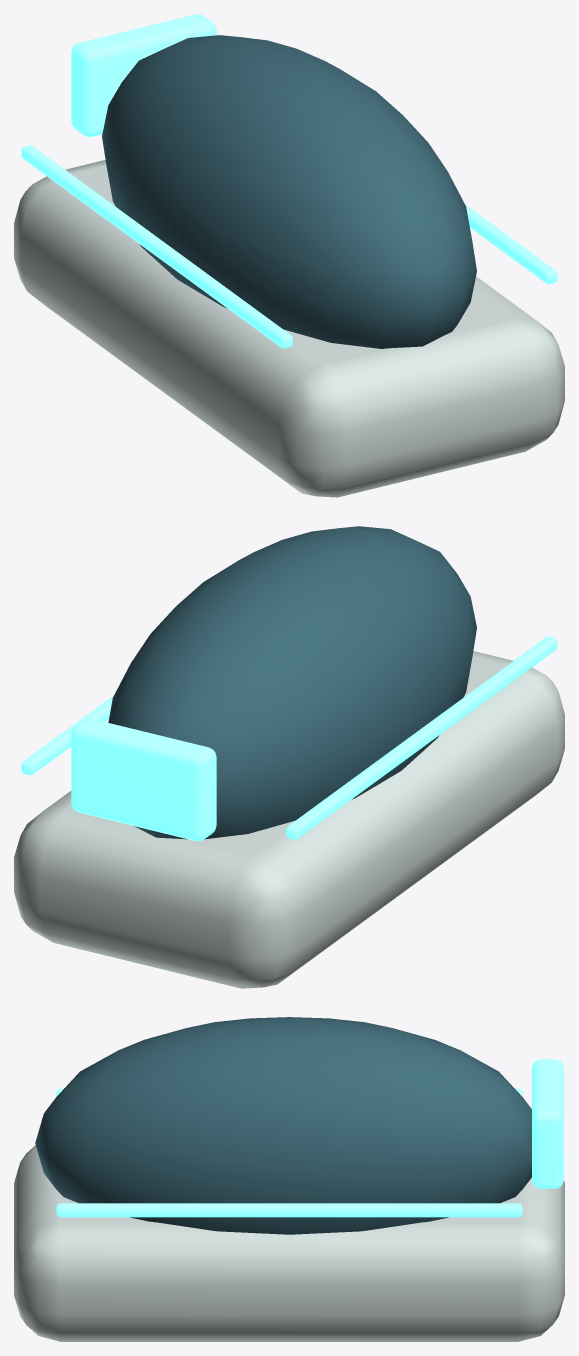
The model's file is survivor-pod.glb.
3 renders of one model, top to bottom at view 1: azimuth 30°, elevation 25°; view 2: azimuth 150°, elevation 25°; view 3: azimuth 270°, elevation 25°, orthographic. The views are drawn at different scales.
Visible parts, largest first — view 1: Smoked capsule, Stasis base, Life support display, Vitals rail, Vitals rail.001; view 2: Stasis base, Smoked capsule, Life support display, Vitals rail, Vitals rail.001; view 3: Smoked capsule, Stasis base, Vitals rail.001, Life support display.
Part boxes in pixels (x1,y1,x2,y2): Smoked capsule: (102,35,476,348); Stasis base: (14,160,564,497); Life support display: (71,14,216,136); Vitals rail: (21,145,292,348); Vitals rail.001: (465,204,557,283); Stasis base: (14,651,564,988); Smoked capsule: (108,526,476,839); Life support display: (71,718,216,841); Vitals rail: (286,636,557,839); Vitals rail.001: (21,695,113,775); Smoked capsule: (35,1017,531,1234); Stasis base: (14,1145,564,1341); Vitals rail.001: (56,1203,522,1217); Life support display: (532,1059,563,1188).
Size of the model in its own units: 1.35 by 1.4 by 2.6.
